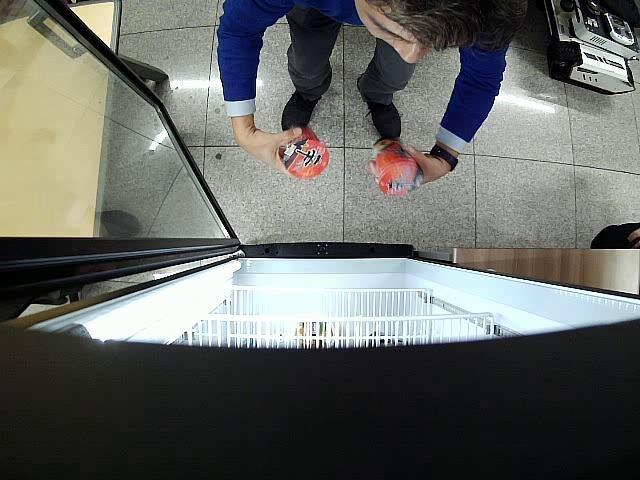02_shinRamen_S: (368, 141, 422, 197), (277, 125, 329, 180)
